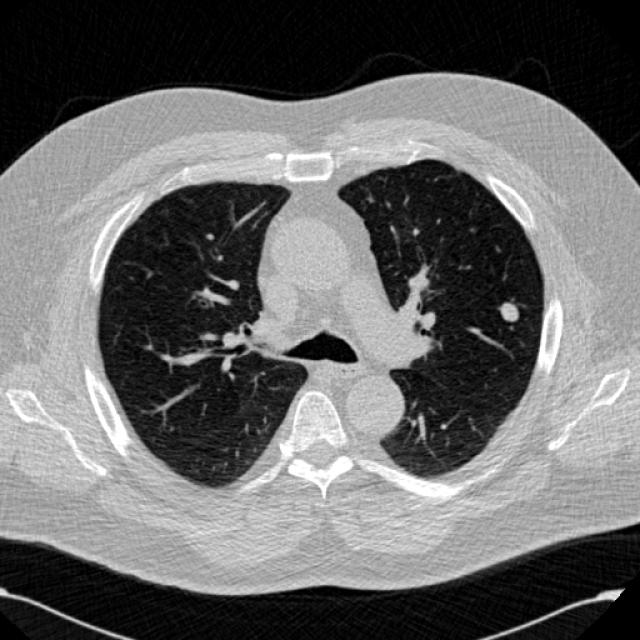nodule: (484, 286, 531, 334)
